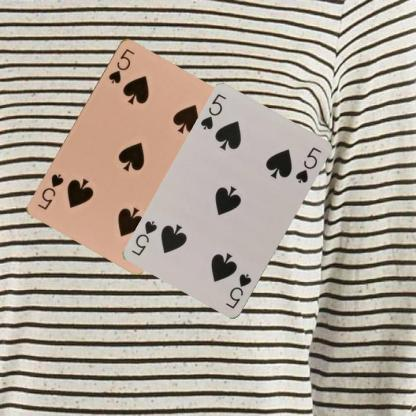5s: (198, 91, 228, 132), (223, 271, 253, 311), (106, 46, 136, 85)
